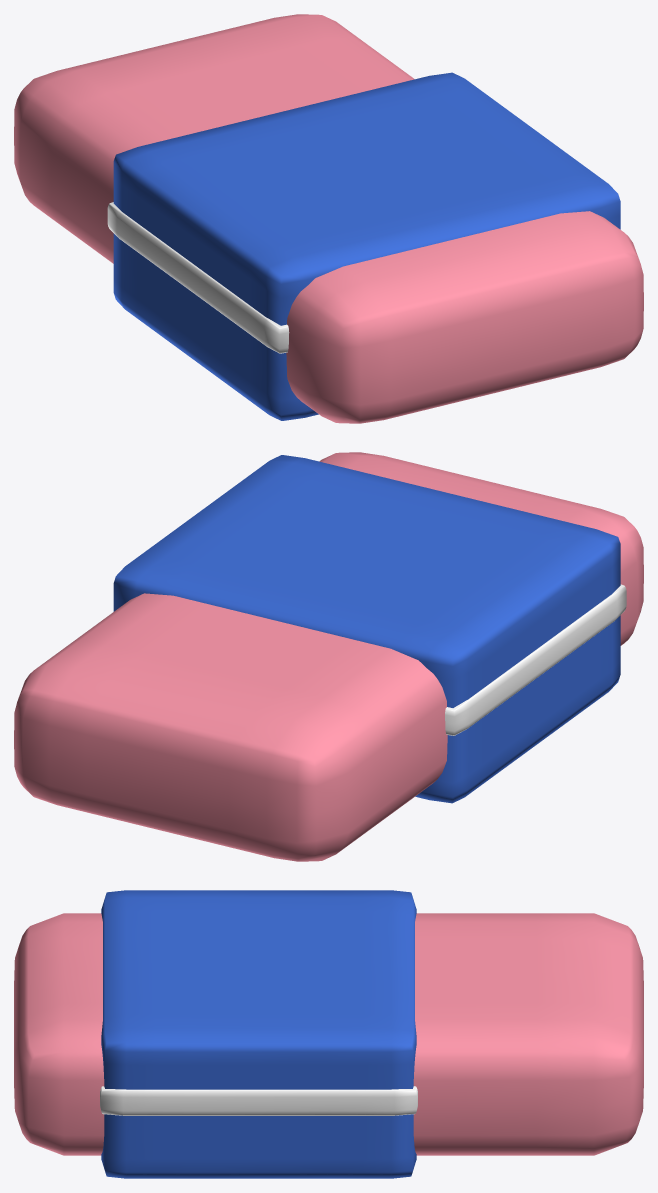
File: TraceRaceEraser.obj
The picture shows the model from 3 angles, top to bottom: view 1: azimuth 30°, elevation 25°; view 2: azimuth 150°, elevation 25°; view 3: azimuth 270°, elevation 25°; orthographic projection. The views are drawn at different scales.
Visible parts, largest first — view 1: Rubber, Sleeve, Stripe; view 2: Rubber, Sleeve, Stripe; view 3: Sleeve, Rubber, Stripe.
Part boxes in pixels (x1=…): Rubber: x1=14, y1=14, x2=643, y2=423; Sleeve: x1=113, y1=72, x2=620, y2=420; Stripe: x1=107, y1=202, x2=289, y2=353; Rubber: x1=14, y1=452, x2=643, y2=861; Sleeve: x1=113, y1=455, x2=620, y2=803; Stripe: x1=445, y1=584, x2=626, y2=735; Sleeve: x1=101, y1=890, x2=416, y2=1178; Rubber: x1=14, y1=913, x2=643, y2=1155; Stripe: x1=100, y1=1086, x2=417, y2=1115.
Bounding box in the file's own units: 10.7 × 4.5 × 18.
